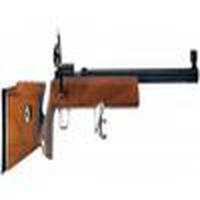gun: (1, 51, 200, 178)
